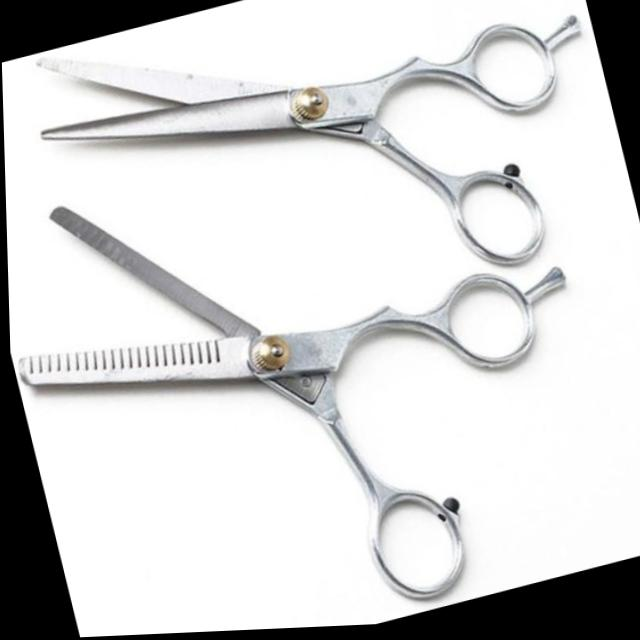scissor: (3, 94, 628, 640)
